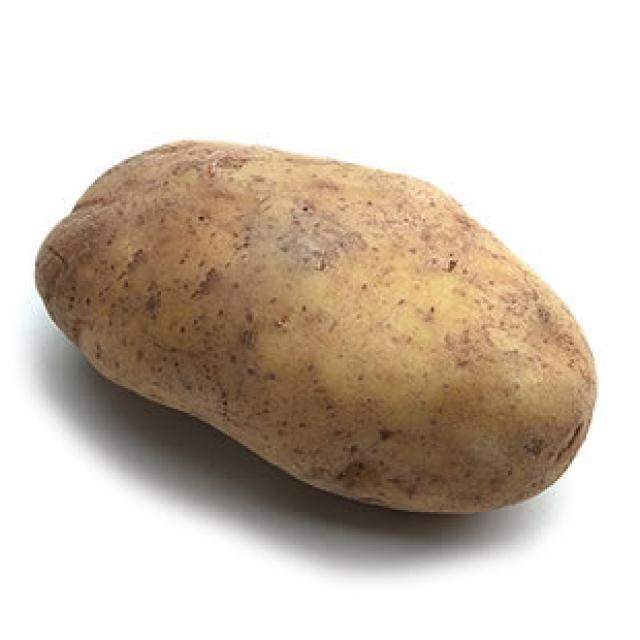Potato: (36, 143, 596, 512)
